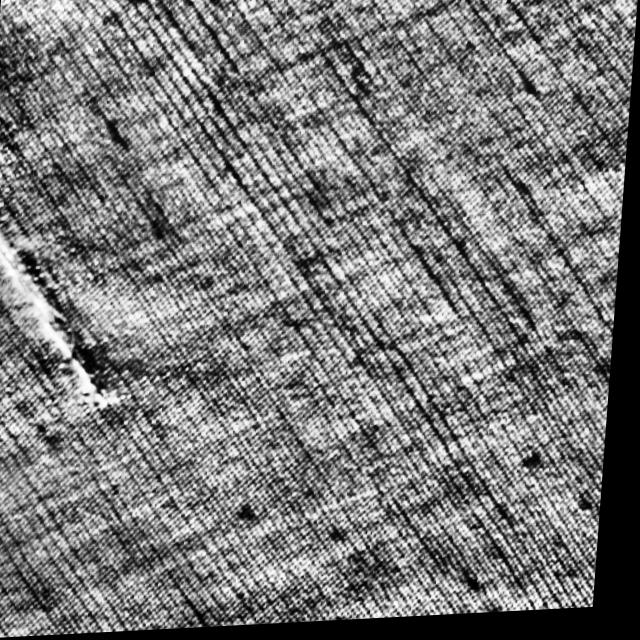Hole: (0, 192, 135, 420)
